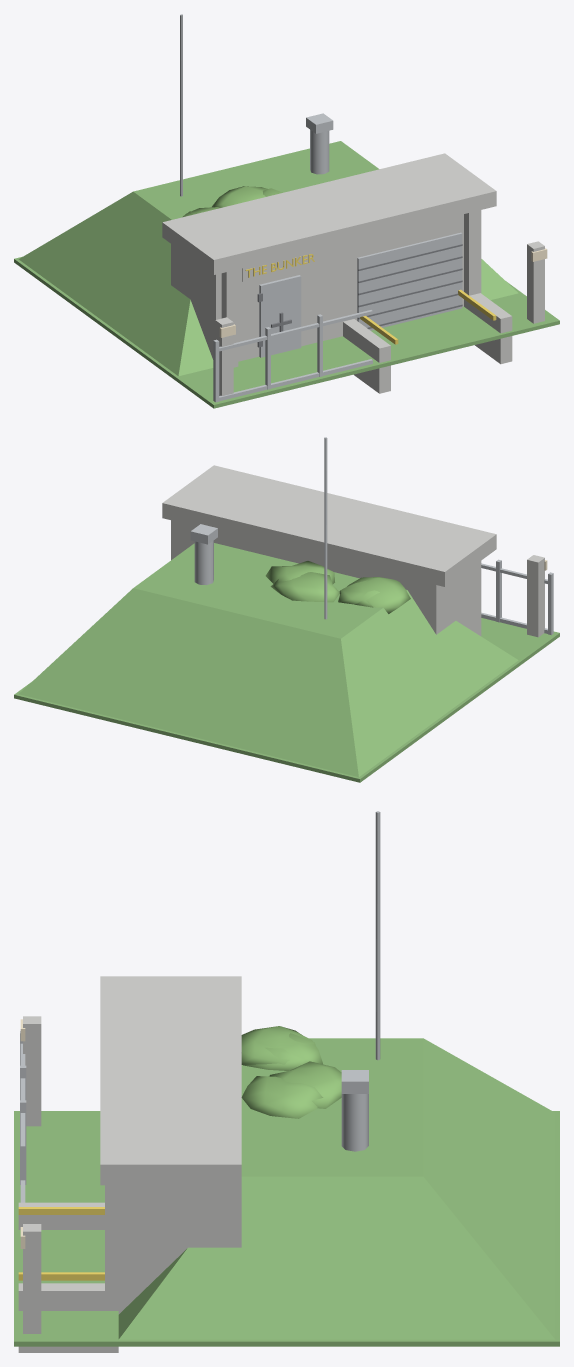
File: bunker.glb
3 views of the same model, one above another, from view 1: azimuth 30°, elevation 25°; view 2: azimuth 150°, elevation 25°; view 3: azimuth 270°, elevation 25° (orthographic). The views are drawn at different scales.
Visible parts, largest first — view 1: bunker; view 2: bunker; view 3: bunker.
Part boxes in pixels (left/top/right/bottom): bunker: left=14, top=14, right=559, bottom=408; bunker: left=14, top=437, right=559, bottom=782; bunker: left=14, top=811, right=559, bottom=1352.
Size of the model in its own units: 12 by 9.9 by 12.
